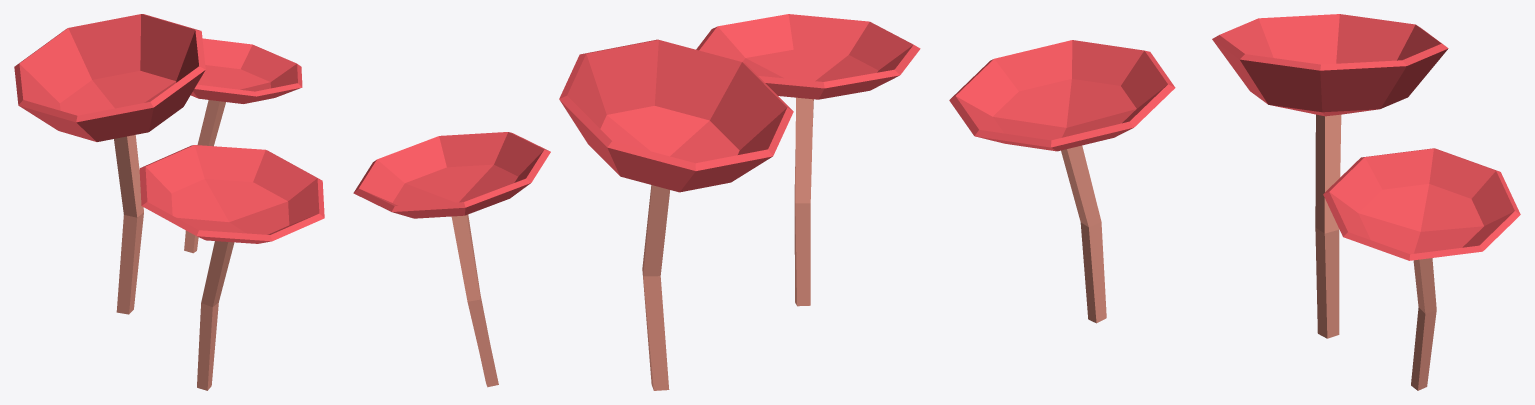
File: Mushroom_d_05.fbx
3 views of the same model, side by side, from view 1: azimuth 30°, elevation 25°; view 2: azimuth 150°, elevation 25°; view 3: azimuth 270°, elevation 25° (orthographic). The views are drawn at different scales.
Parts seen in each view (by area): view 1: Mushroom_d_05; view 2: Mushroom_d_05; view 3: Mushroom_d_05.
Boxes of the visible parts, x1=… form: Mushroom_d_05: x1=14, y1=14, x2=324, y2=390; Mushroom_d_05: x1=353, y1=14, x2=920, y2=390; Mushroom_d_05: x1=949, y1=14, x2=1520, y2=390.
Bounding box in the file's own units: 36.84 × 30.04 × 50.67.
